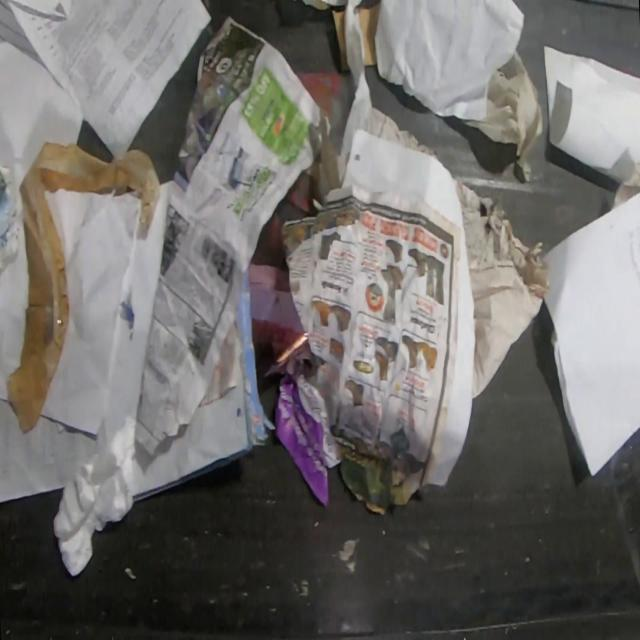cardboard: (357, 0, 382, 67), (331, 9, 351, 73)
rigid_plastic: (295, 69, 357, 157), (284, 169, 316, 216)
soft_plastic: (6, 139, 162, 435)
